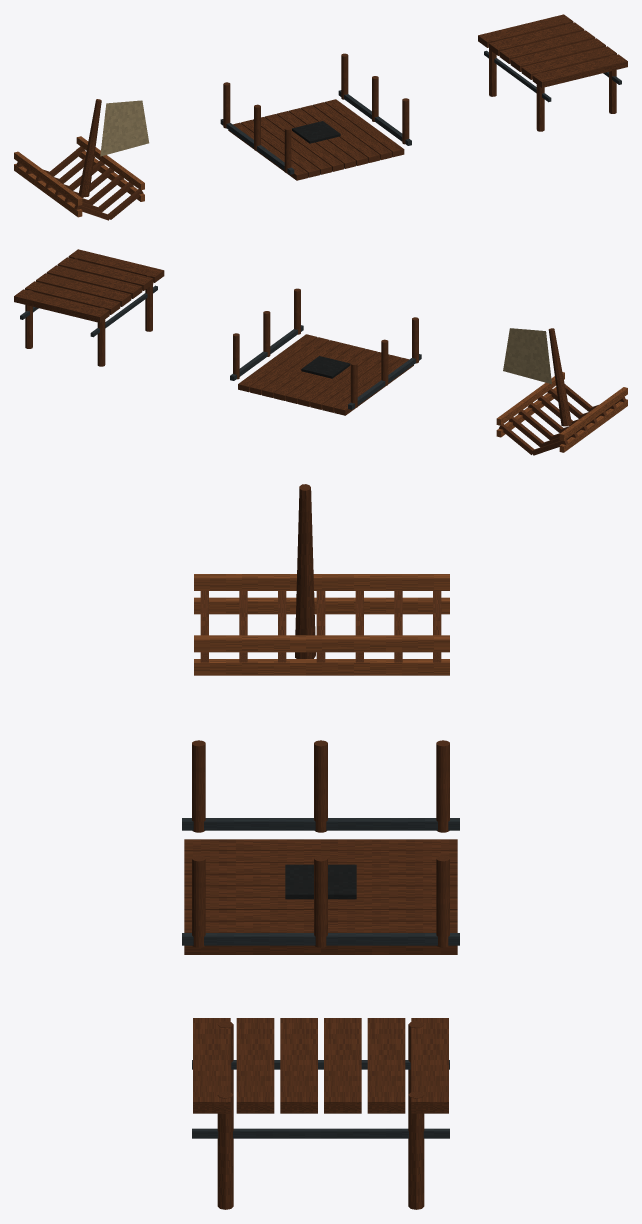
File: KIT_harlow_wreckage.gltf
The picture shows the model from 3 angles, top to bottom: view 1: azimuth 30°, elevation 25°; view 2: azimuth 150°, elevation 25°; view 3: azimuth 270°, elevation 25°; orthographic projection. The views are drawn at different scales.
Parts seen in each view (by area): view 1: 02_deck, 03_pier, 01_wreck; view 2: 02_deck, 03_pier, 01_wreck; view 3: 02_deck, 03_pier, 01_wreck.
Boxes of the visible parts, bbox=[...] form: 02_deck: bbox=[220, 53, 411, 180]; 03_pier: bbox=[478, 14, 627, 131]; 01_wreck: bbox=[14, 99, 149, 220]; 02_deck: bbox=[230, 288, 421, 415]; 03_pier: bbox=[14, 249, 164, 366]; 01_wreck: bbox=[496, 328, 627, 455]; 02_deck: bbox=[182, 740, 459, 954]; 03_pier: bbox=[192, 1018, 449, 1209]; 01_wreck: bbox=[194, 484, 449, 675].
Size of the model in its own units: 12.78 by 2.64 by 2.8.
Materials: 5 (5 with a texture image).
